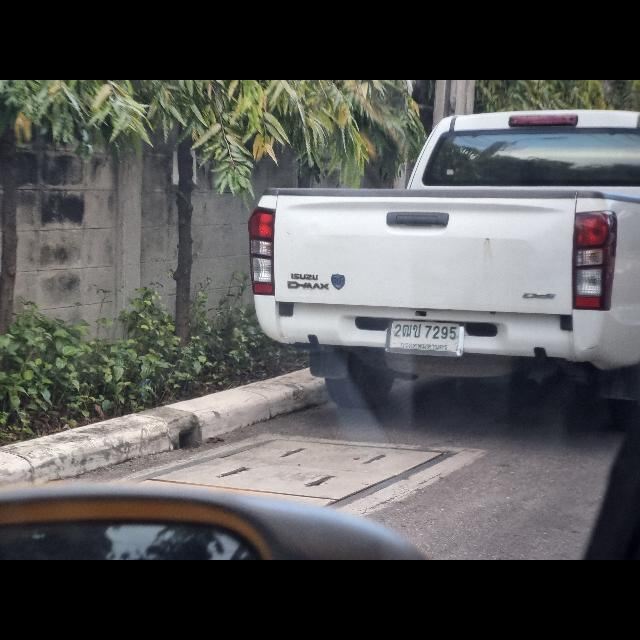licenseplate: (386, 318, 464, 358)
